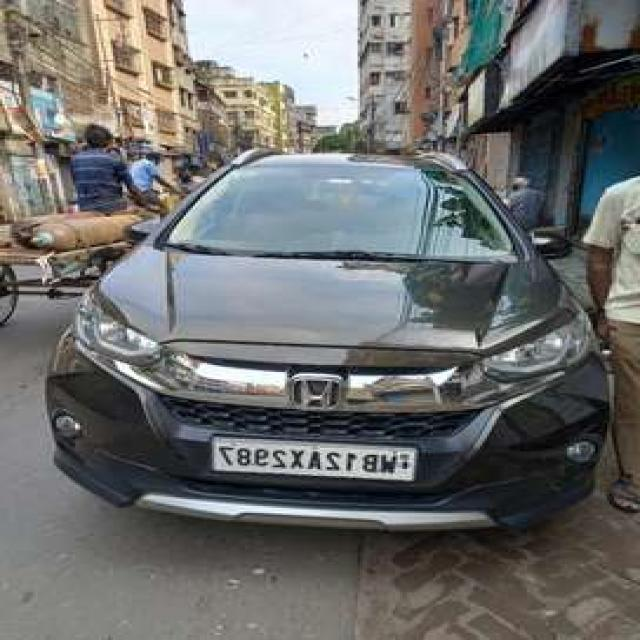license_plate: (202, 434, 426, 486)
